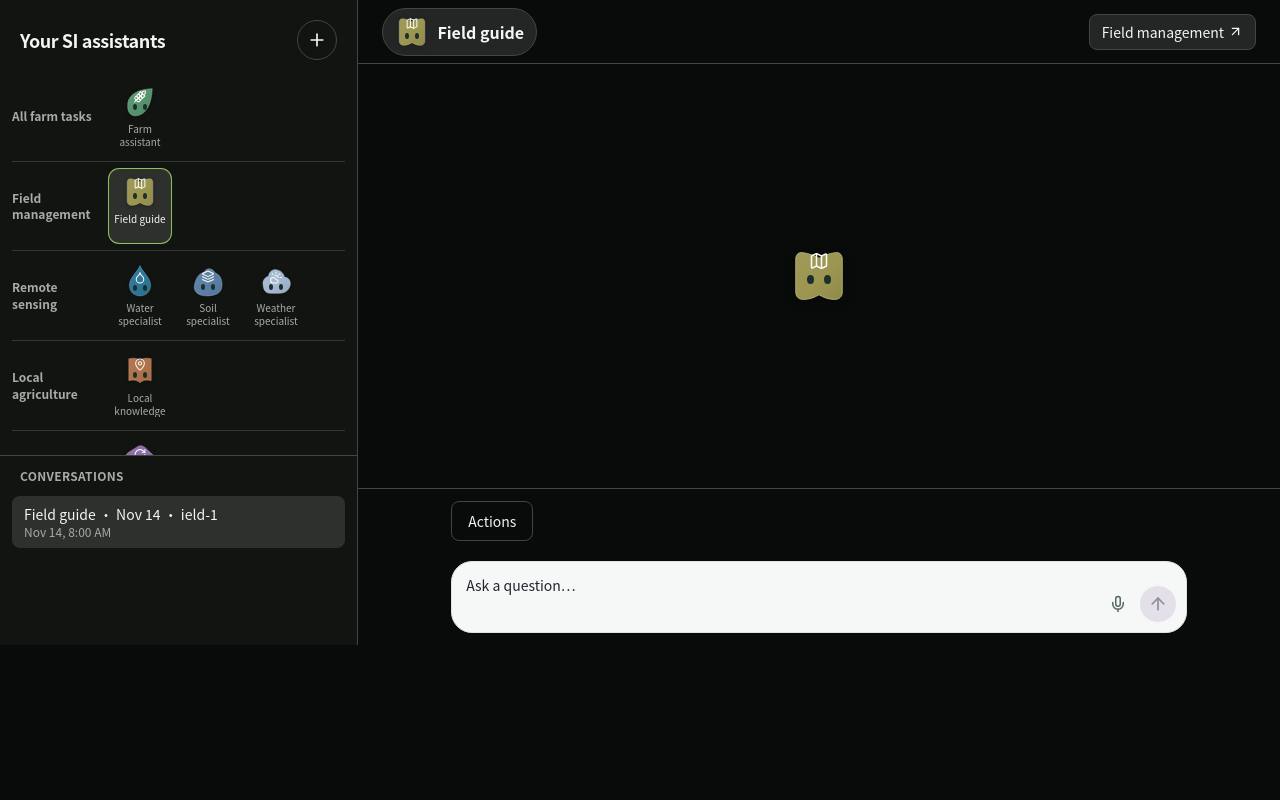
uses a new idempotency key when a failed message is edited
Step 1. Type "Original text" into the text box named "Message Field guide" → (779, 598), box 466,574 -> 1092,622
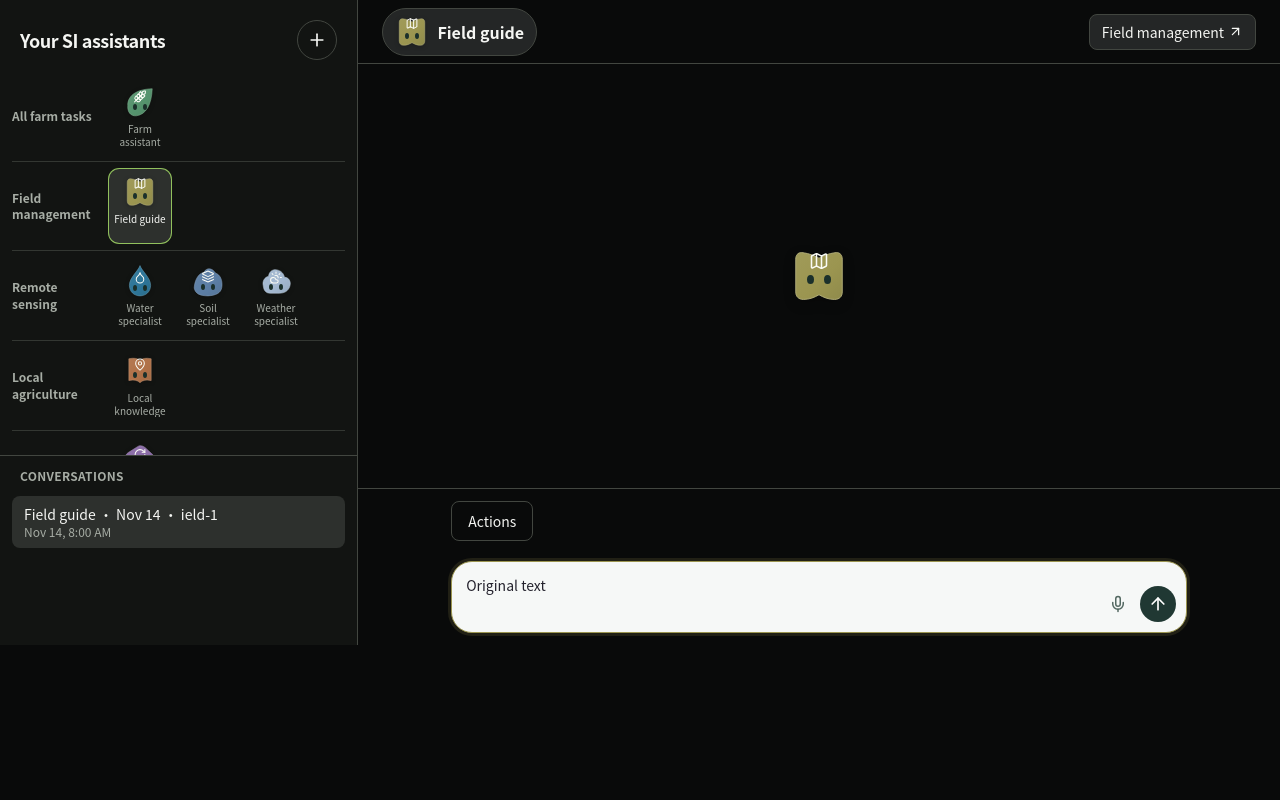
Step 2. Click the button named "Send message" → (1158, 604), box 1140,586 -> 1176,622
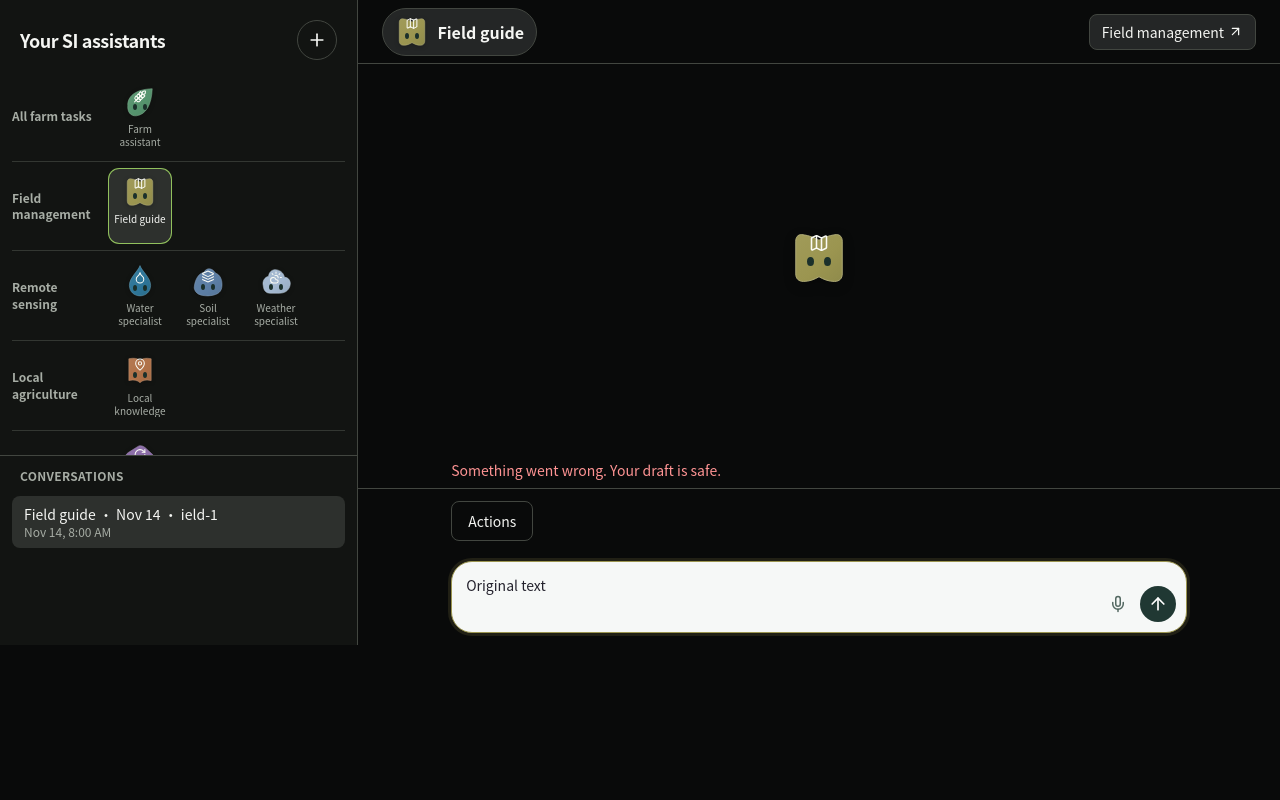
Now the message "Something went wrong. Your draft is safe." is shown, box 451,460 -> 721,480
Step 3. Replace the text in the text box named "Message Field guide" with "Corrected text" → (779, 598), box 466,574 -> 1092,622
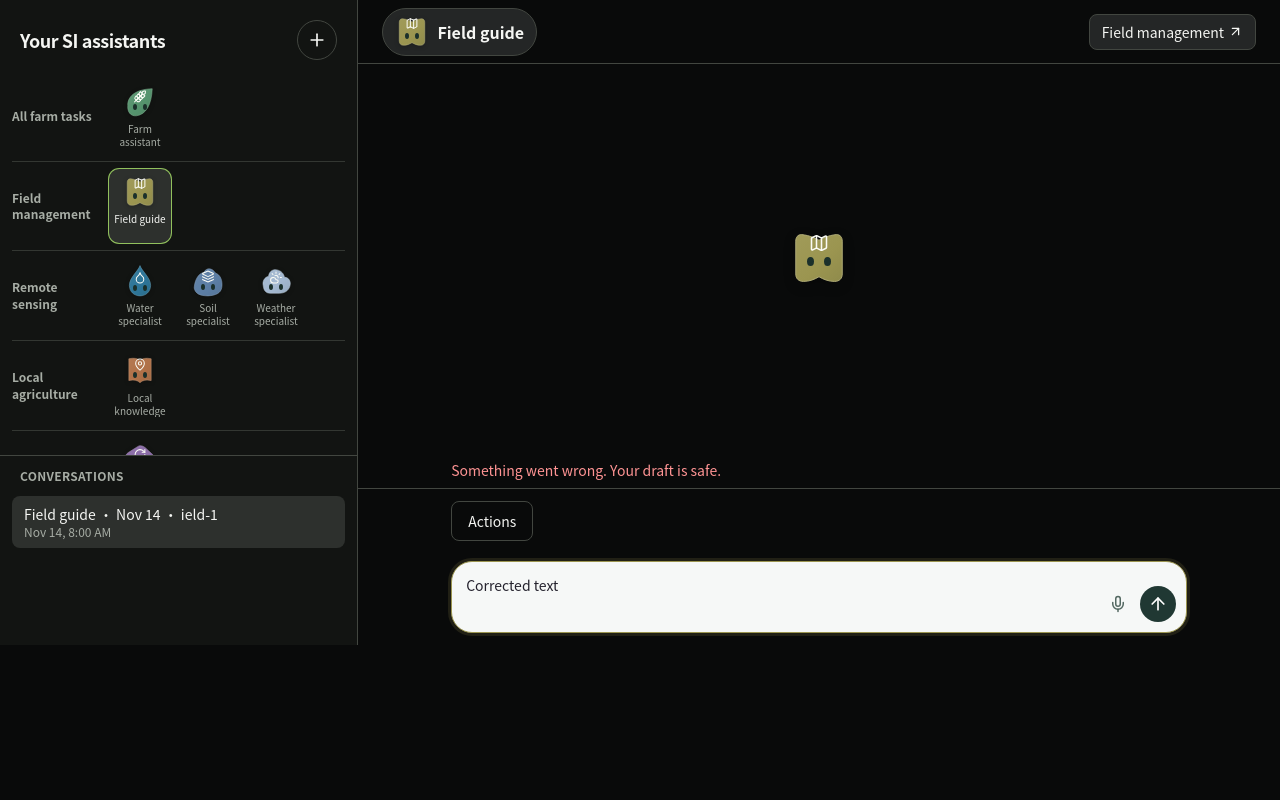
Step 4. Click the button named "Send message" → (1158, 604), box 1140,586 -> 1176,622
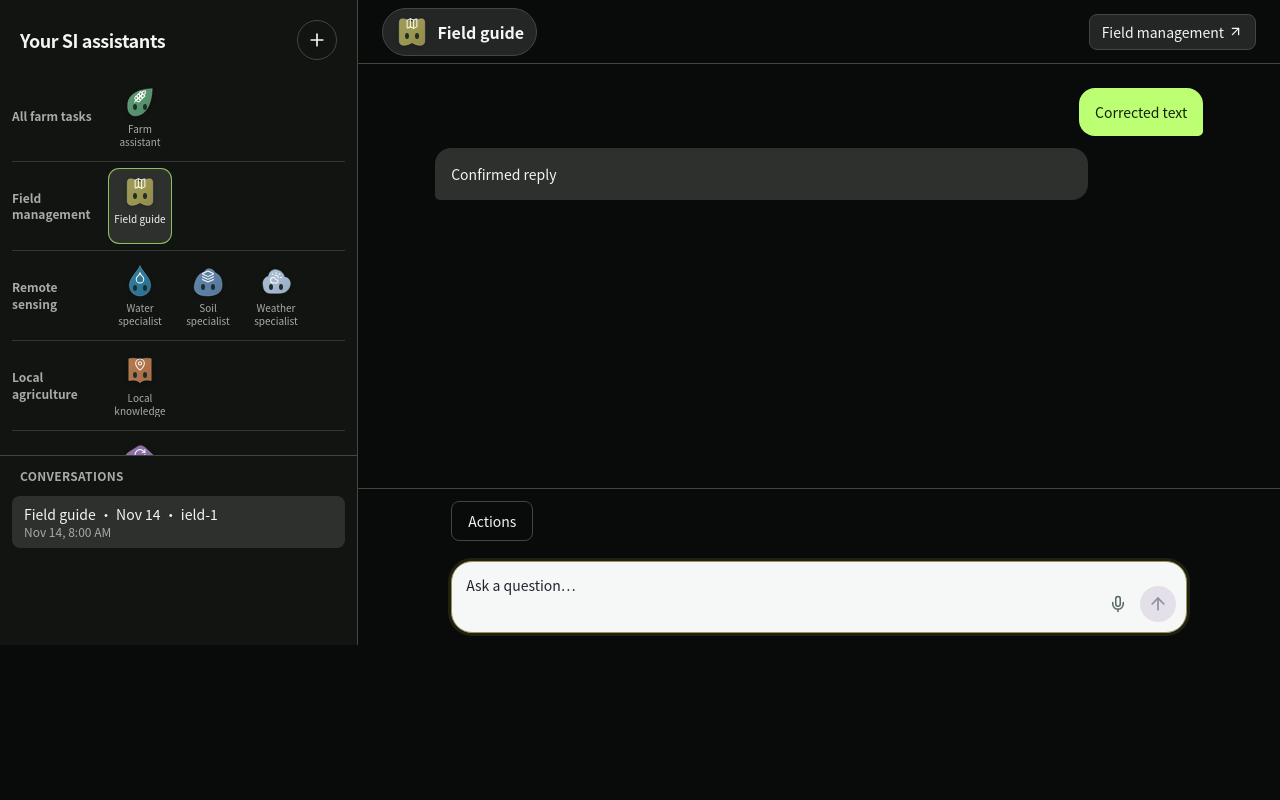
Now the text "Confirmed reply" is shown, box 451,164 -> 556,184
